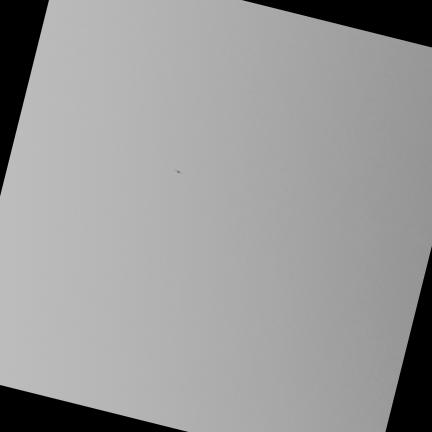Shahed: (171, 168, 181, 174)
